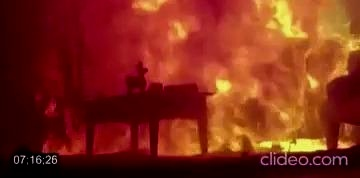fire: (58, 0, 360, 150)
